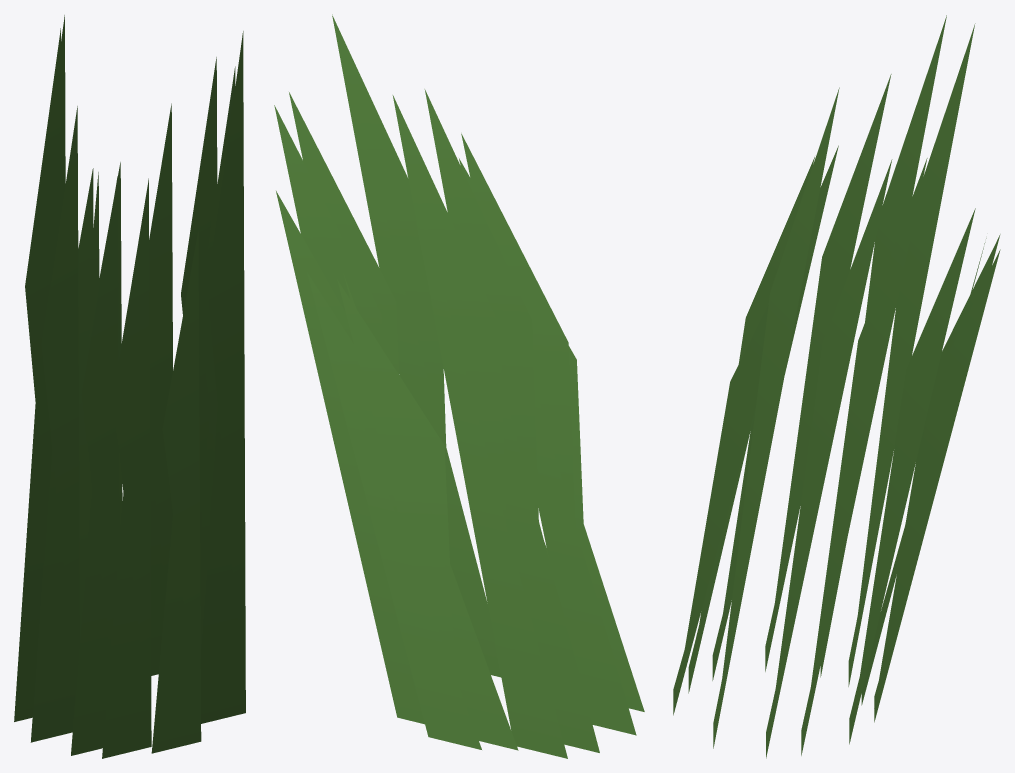
File: grass_c.glb
3 renders of one model, left to right at view 1: azimuth 30°, elevation 25°; view 2: azimuth 150°, elevation 25°; view 3: azimuth 270°, elevation 25°, orthographic. The views are drawn at different scales.
Visible parts, largest first — view 1: grass_c; view 2: grass_c; view 3: grass_c.
Boxes of the visible parts, <box> form: grass_c: <box>14,15,245,758</box>; grass_c: <box>274,14,644,758</box>; grass_c: <box>673,15,1000,758</box>.
Size of the model in its own units: 0.2644 by 0.605 by 0.2588.
